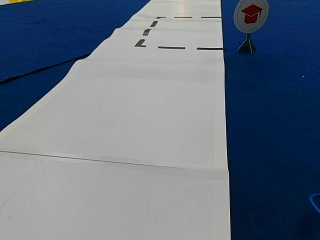school: (232, 1, 269, 32)
